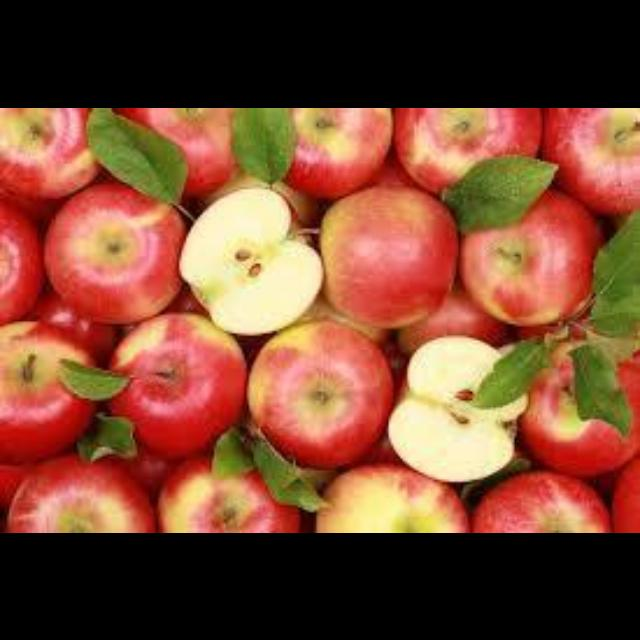apple: (247, 321, 393, 465), (44, 181, 184, 321), (109, 312, 244, 456), (319, 186, 456, 326), (458, 188, 600, 323), (519, 349, 638, 475), (0, 321, 93, 461), (393, 107, 540, 191), (5, 454, 154, 531), (314, 463, 468, 531), (116, 107, 235, 193), (158, 458, 298, 531), (542, 107, 638, 212), (284, 107, 391, 195), (0, 107, 98, 195), (470, 470, 610, 531)
